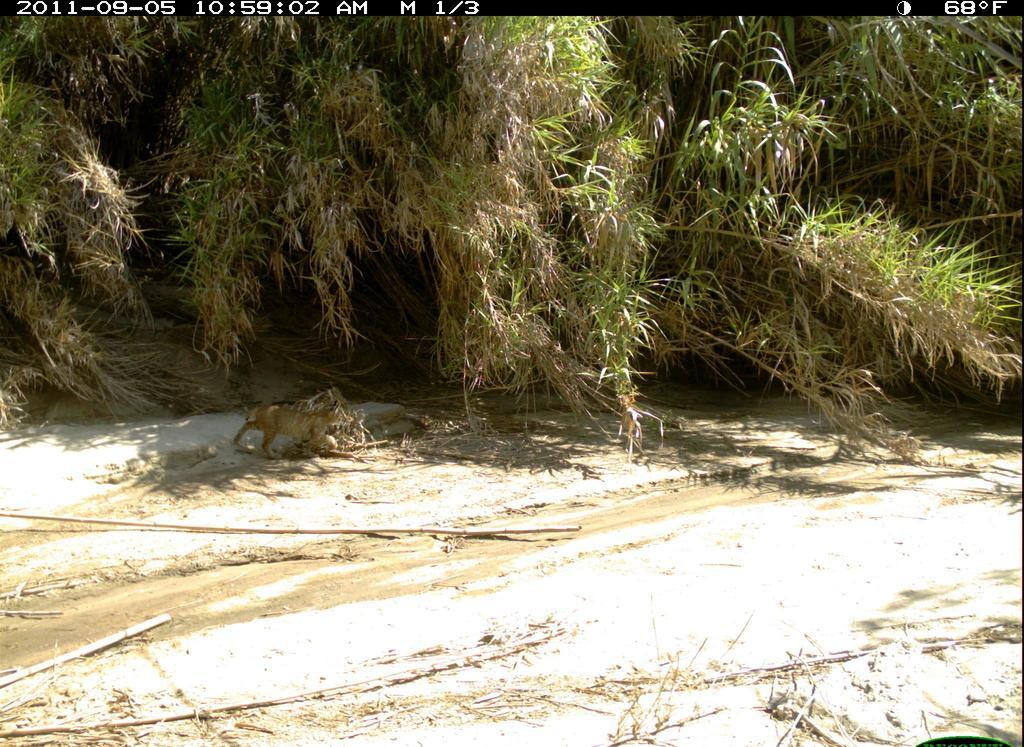bobcat: (235, 395, 360, 464)
